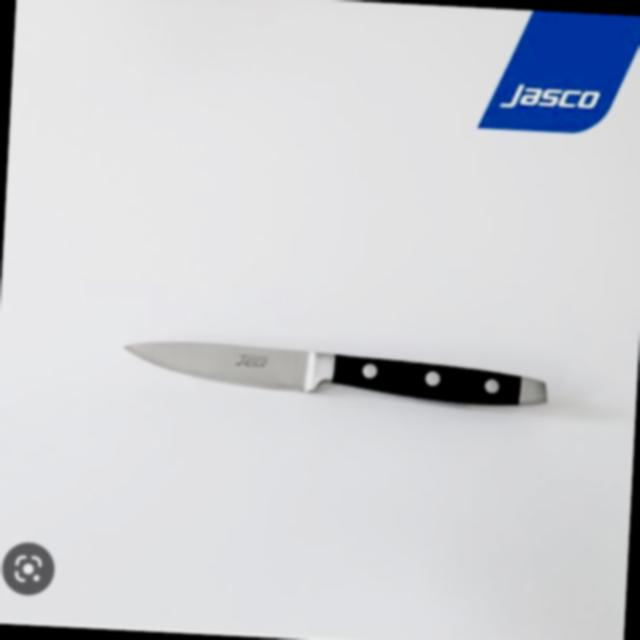knife: (113, 314, 573, 461)
